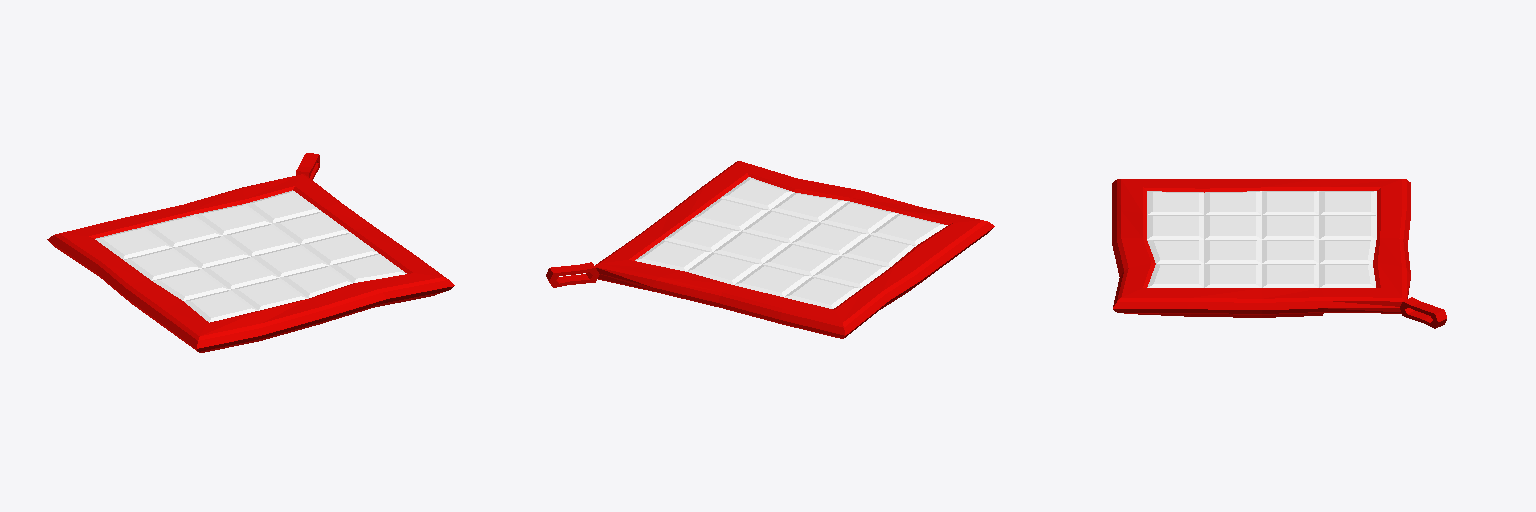
File: Potholder_01.obj
3 views of the same model, side by side, from view 1: azimuth 30°, elevation 25°; view 2: azimuth 150°, elevation 25°; view 3: azimuth 270°, elevation 25° (orthographic).
Visible parts, largest first — view 1: Potholder_01_Cube.027; view 2: Potholder_01_Cube.027; view 3: Potholder_01_Cube.027.
Part boxes in pixels (bbox=[...]): Potholder_01_Cube.027: bbox=[47, 153, 454, 352]; Potholder_01_Cube.027: bbox=[546, 161, 994, 338]; Potholder_01_Cube.027: bbox=[1112, 179, 1446, 328].
Bounding box in the file's own units: 9.06 × 0.7229 × 9.17.